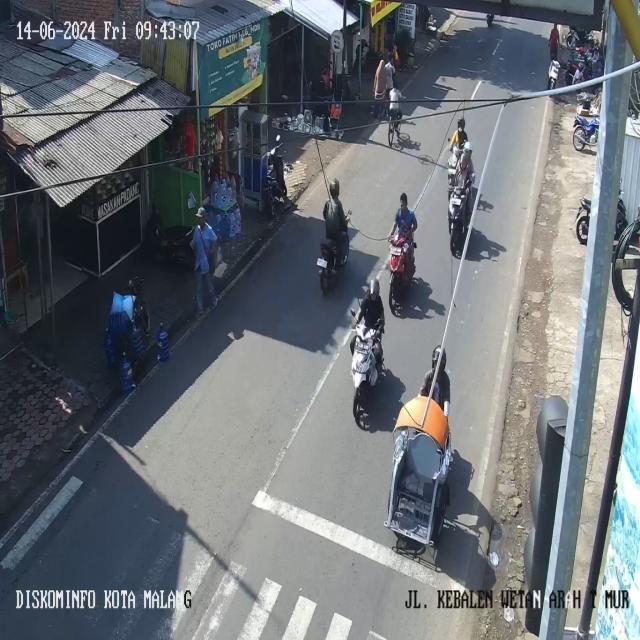Helmet: (432, 345, 445, 370), (329, 178, 339, 197), (369, 278, 379, 295), (463, 142, 472, 154), (457, 118, 465, 129), (400, 192, 407, 204), (454, 147, 461, 157)
Number Plate: (390, 246, 401, 255), (451, 197, 462, 206), (317, 258, 327, 267)
Rearview Mirror: (275, 134, 280, 142)
